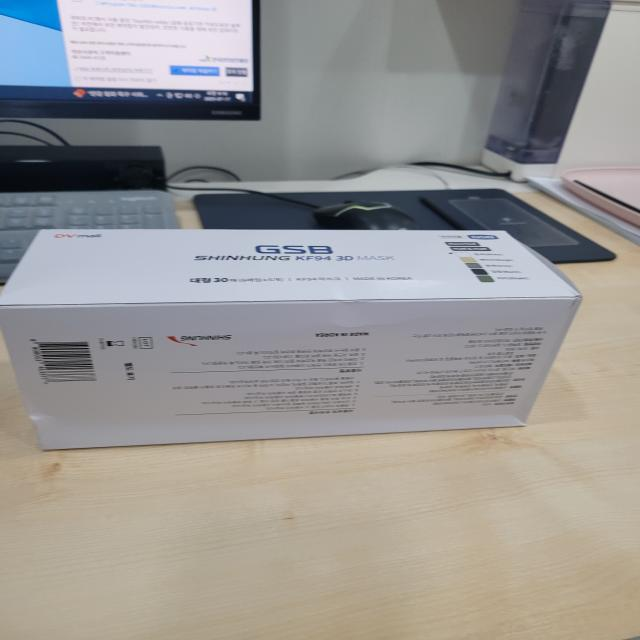mask: (0, 219, 640, 471)
